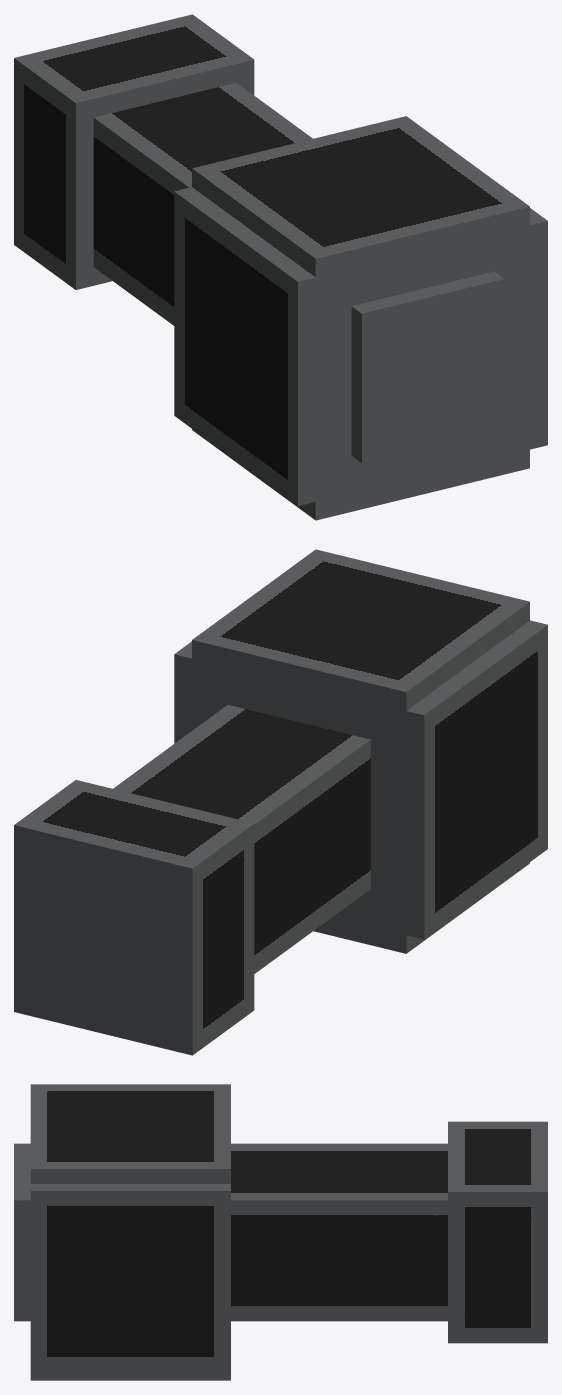
File: arm_arm.obj
The picture shows the model from 3 angles, top to bottom: view 1: azimuth 30°, elevation 25°; view 2: azimuth 150°, elevation 25°; view 3: azimuth 270°, elevation 25°; orthographic projection. The views are drawn at different scales.
Visible parts, largest first — view 1: arm1; view 2: arm1; view 3: arm1.
Part boxes in pixels (box(x1,y1,x2,y2)): arm1: box(14, 14, 547, 520); arm1: box(14, 549, 547, 1055); arm1: box(14, 1084, 547, 1380).
Size of the model in its own units: 0.875 by 0.875 by 2.
